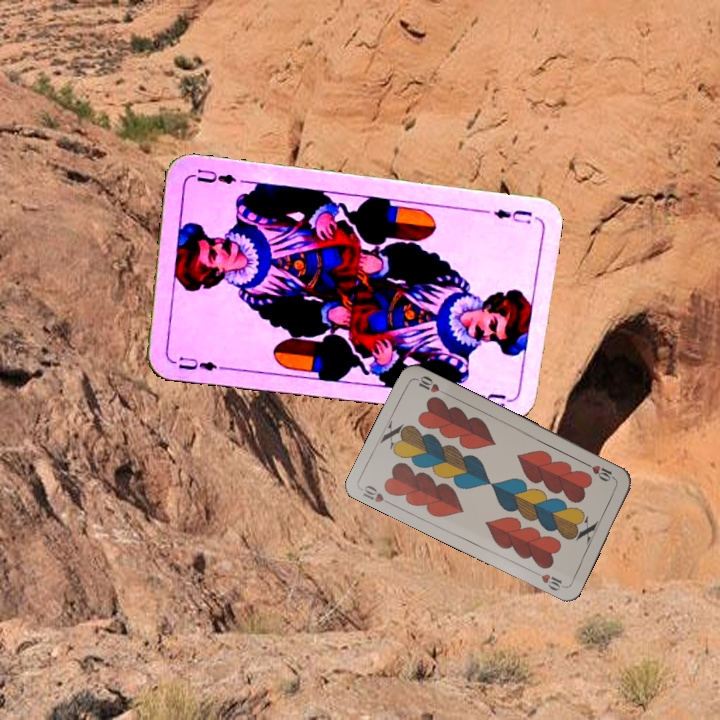EU: (168, 352, 228, 374), (490, 204, 535, 226)
H10: (359, 481, 396, 508), (581, 459, 619, 484)
